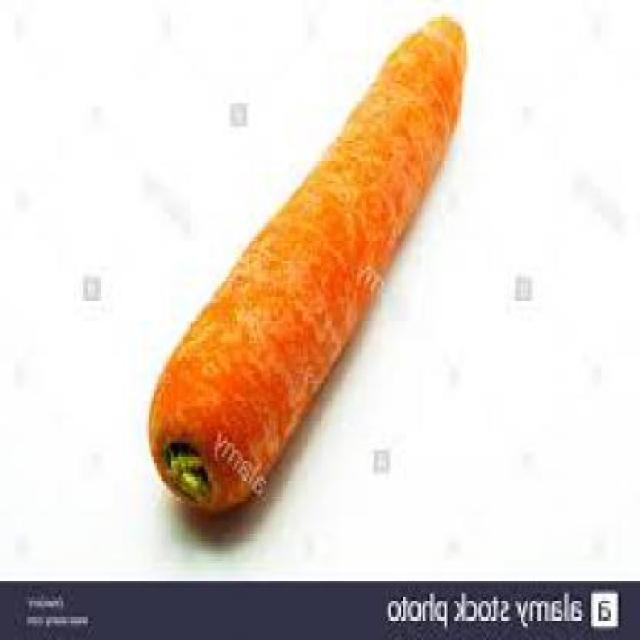BIODEGRADABLE: (151, 13, 467, 513)
